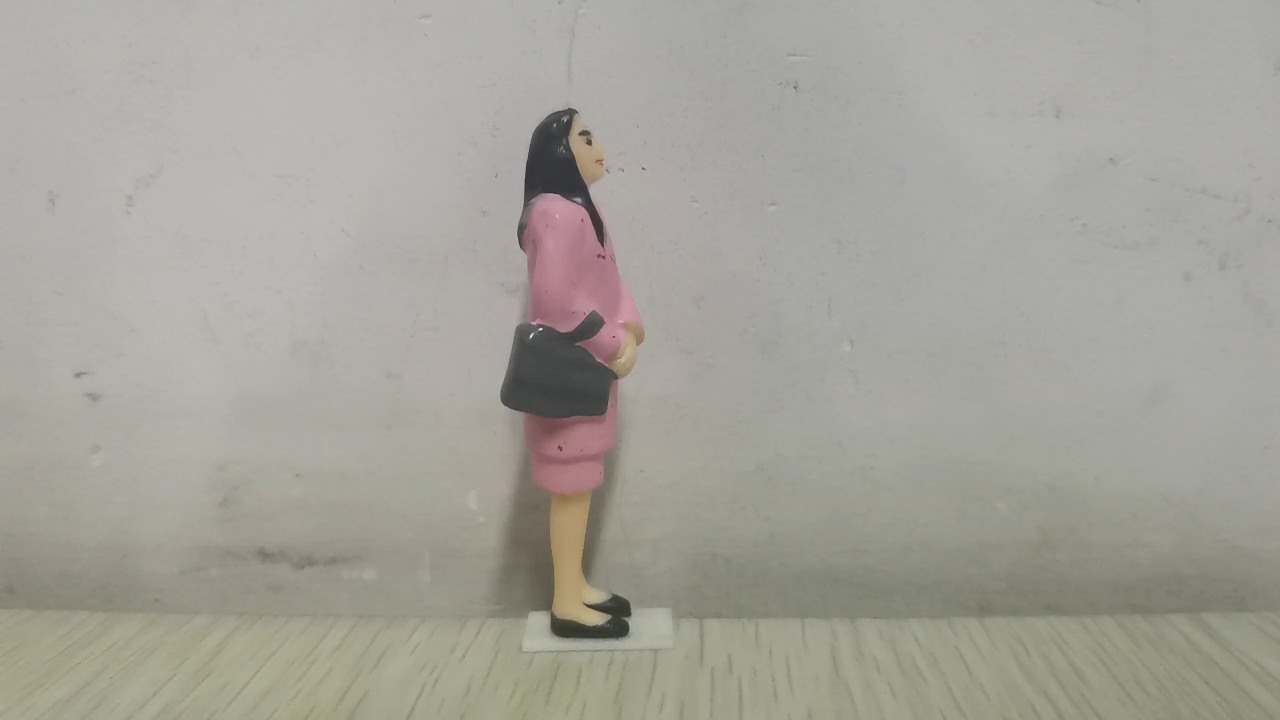person: (497, 108, 646, 640)
